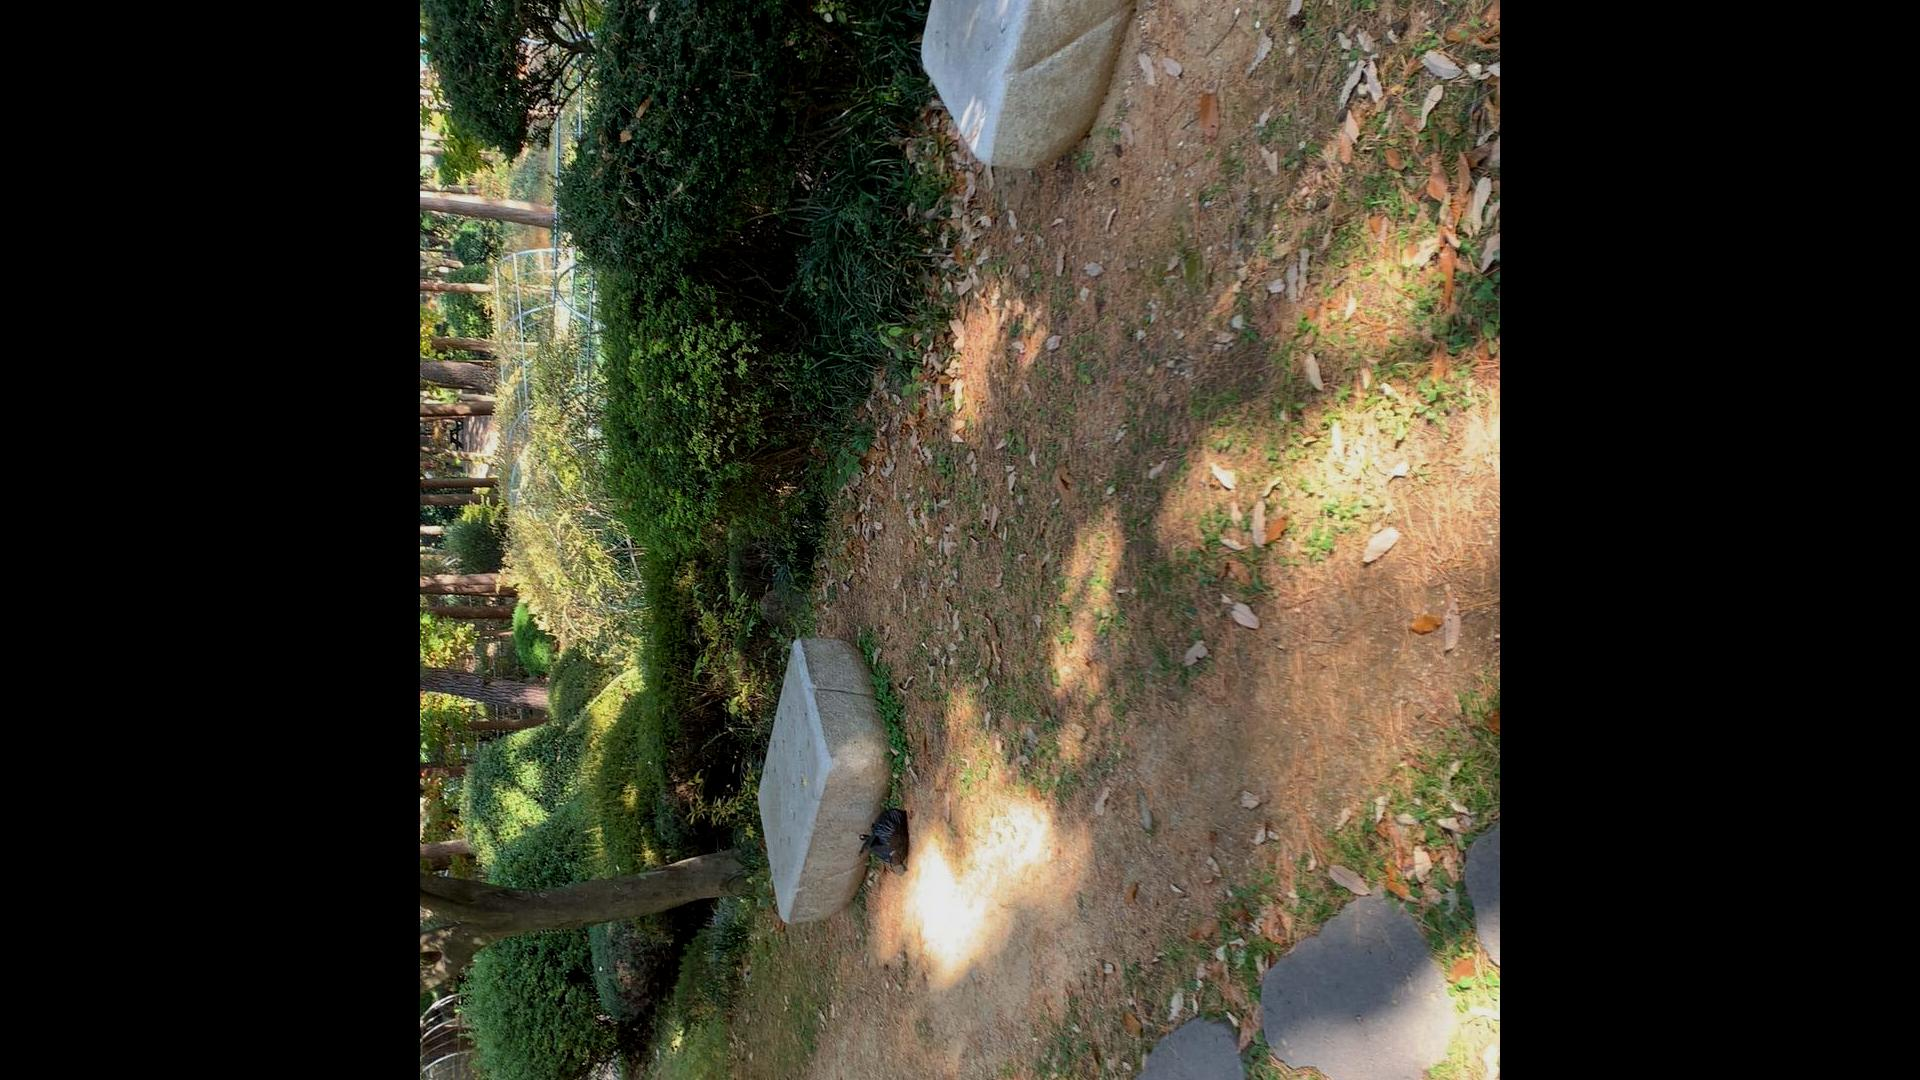black_bag: (855, 803, 910, 869)
